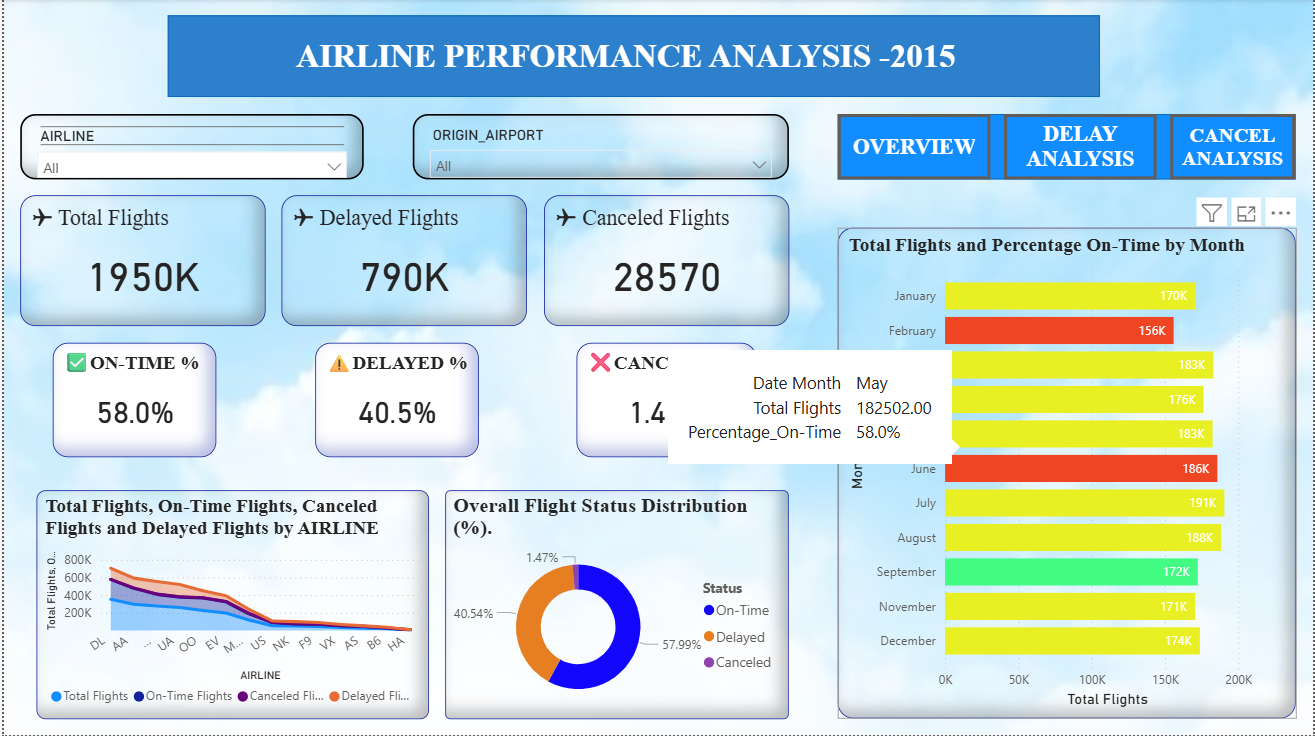

The dashboard page shown, as its layout file describes it:
{"tool":"powerbi","page":{"name":"Page 1","canvas":[1280,720],"ordinal":0},"visuals":[{"type":"shape","box":[160,16,912,80],"z":0},{"type":"textbox","box":[160,32,896,64],"z":1000},{"type":"slicer","fields":{"Values":["airlines.AIRLINE"]},"box":[16,112,336,64],"z":2000},{"type":"card","title":"✈ Total Flights","fields":{"Values":["Measure_table.Total Flights"]},"box":[16,192,240,128],"z":3000},{"type":"donutChart","title":"Overall Flight Status Distribution (%).","fields":{"Category":["flights.Status"],"Y":["flights.Total Flights"]},"box":[432,480,336,224],"z":4000},{"type":"clusteredBarChart","title":"Total Flights and Percentage On-Time by Month","fields":{"Category":["Dim_Date.Date.Variation.Date Hierarchy.Month"],"Y":["Measure_table.Total Flights"]},"box":[816,224,448,480],"z":5000},{"type":"slicer","fields":{"Values":["flights.ORIGIN_AIRPORT"]},"box":[400,112,368,64],"z":6000},{"type":"stackedAreaChart","fields":{"Y":["Measure_table.Total Flights","Measure_table.On-Time Flights","Measure_table.Canceled Flights","Measure_table.Delayed Flights"],"Category":["flights.AIRLINE"]},"box":[32,480,384,224],"z":7000},{"type":"card","title":"✈ Delayed Flights","fields":{"Values":["Measure_table.Delayed Flights"]},"box":[272,192,240,128],"z":8000},{"type":"card","title":"✈ Canceled Flights","fields":{"Values":["Measure_table.Canceled Flights"]},"box":[528,192,240,128],"z":9000},{"type":"card","title":"✅ON-TIME  %","fields":{"Values":["Measure_table.Percentage_On-Time"]},"box":[48,336,160,112],"z":10000},{"type":"card","title":"⚠️DELAYED  %","fields":{"Values":["Measure_table.Percentage Delayed"]},"box":[304,336,160,112],"z":11000},{"type":"shape","box":[816,112,448,64],"z":12000},{"type":"card","title":"❌CANCELED  %","fields":{"Values":["Measure_table.Percentage Cancelled"]},"box":[560,336,176,112],"z":13000},{"type":"actionButton","box":[978.9,112,149.3,64],"z":14000,"group":"g1"},{"type":"actionButton","title":"OVERVIEW","box":[816,112,149.3,64],"z":15000,"group":"g1"},{"type":"actionButton","box":[1141.8,112,122.2,64],"z":16000,"group":"g1"},{"type":"group","id":"g1","title":"Group 1","box":[816,112,448,64],"z":16001}]}

Visuals, with their boxes in screenshot pixels (x1, y1, x2, y2), scaled from the page's 1280x720 canvas onto the 1315x736 screenshot:
shape: select_region(164, 16, 1101, 98)
textbox: select_region(164, 33, 1085, 98)
slicer - airlines.AIRLINE: select_region(16, 114, 362, 180)
"✈ Total Flights" card: select_region(16, 196, 263, 327)
"Overall Flight Status Distribution (%)." donutChart: select_region(444, 491, 789, 720)
"Total Flights and Percentage On-Time by Month" clusteredBarChart: select_region(838, 229, 1299, 720)
slicer - flights.ORIGIN_AIRPORT: select_region(411, 114, 789, 180)
stackedAreaChart - Measure_table.Total Flights x Measure_table.On-Time Flights: select_region(33, 491, 427, 720)
"✈ Delayed Flights" card: select_region(279, 196, 526, 327)
"✈ Canceled Flights" card: select_region(542, 196, 789, 327)
"✅ON-TIME  %" card: select_region(49, 343, 214, 458)
"⚠️DELAYED  %" card: select_region(312, 343, 477, 458)
shape: select_region(838, 114, 1299, 180)
"❌CANCELED  %" card: select_region(575, 343, 756, 458)
actionButton: select_region(1006, 114, 1159, 180)
"OVERVIEW" actionButton: select_region(838, 114, 992, 180)
actionButton: select_region(1173, 114, 1299, 180)
"Group 1" group: select_region(838, 114, 1299, 180)
